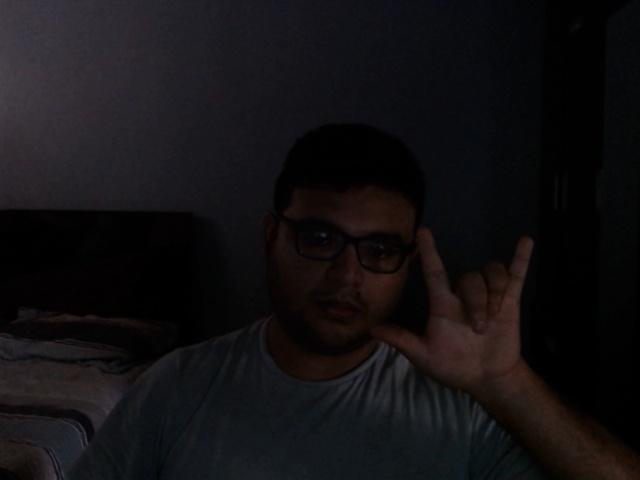I love you: (370, 226, 538, 396)
